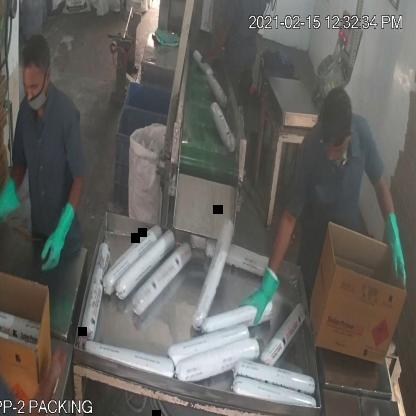glove: (235, 258, 282, 338), (36, 202, 80, 280), (380, 196, 411, 295), (0, 169, 26, 254)
no_glove: (194, 18, 234, 71)
